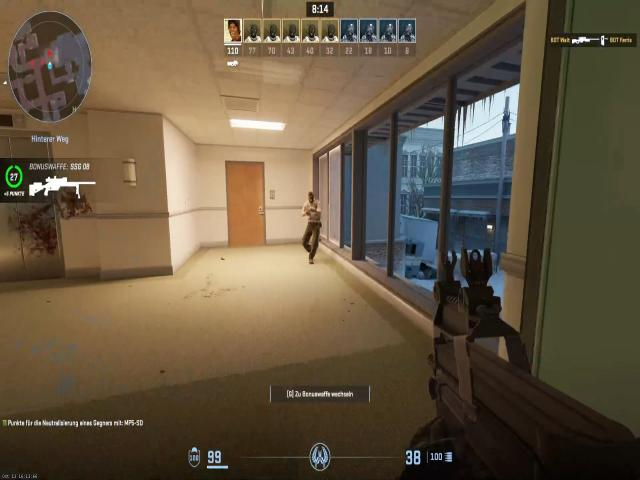T: (306, 192, 319, 206)
T-Head: (302, 189, 322, 238)
